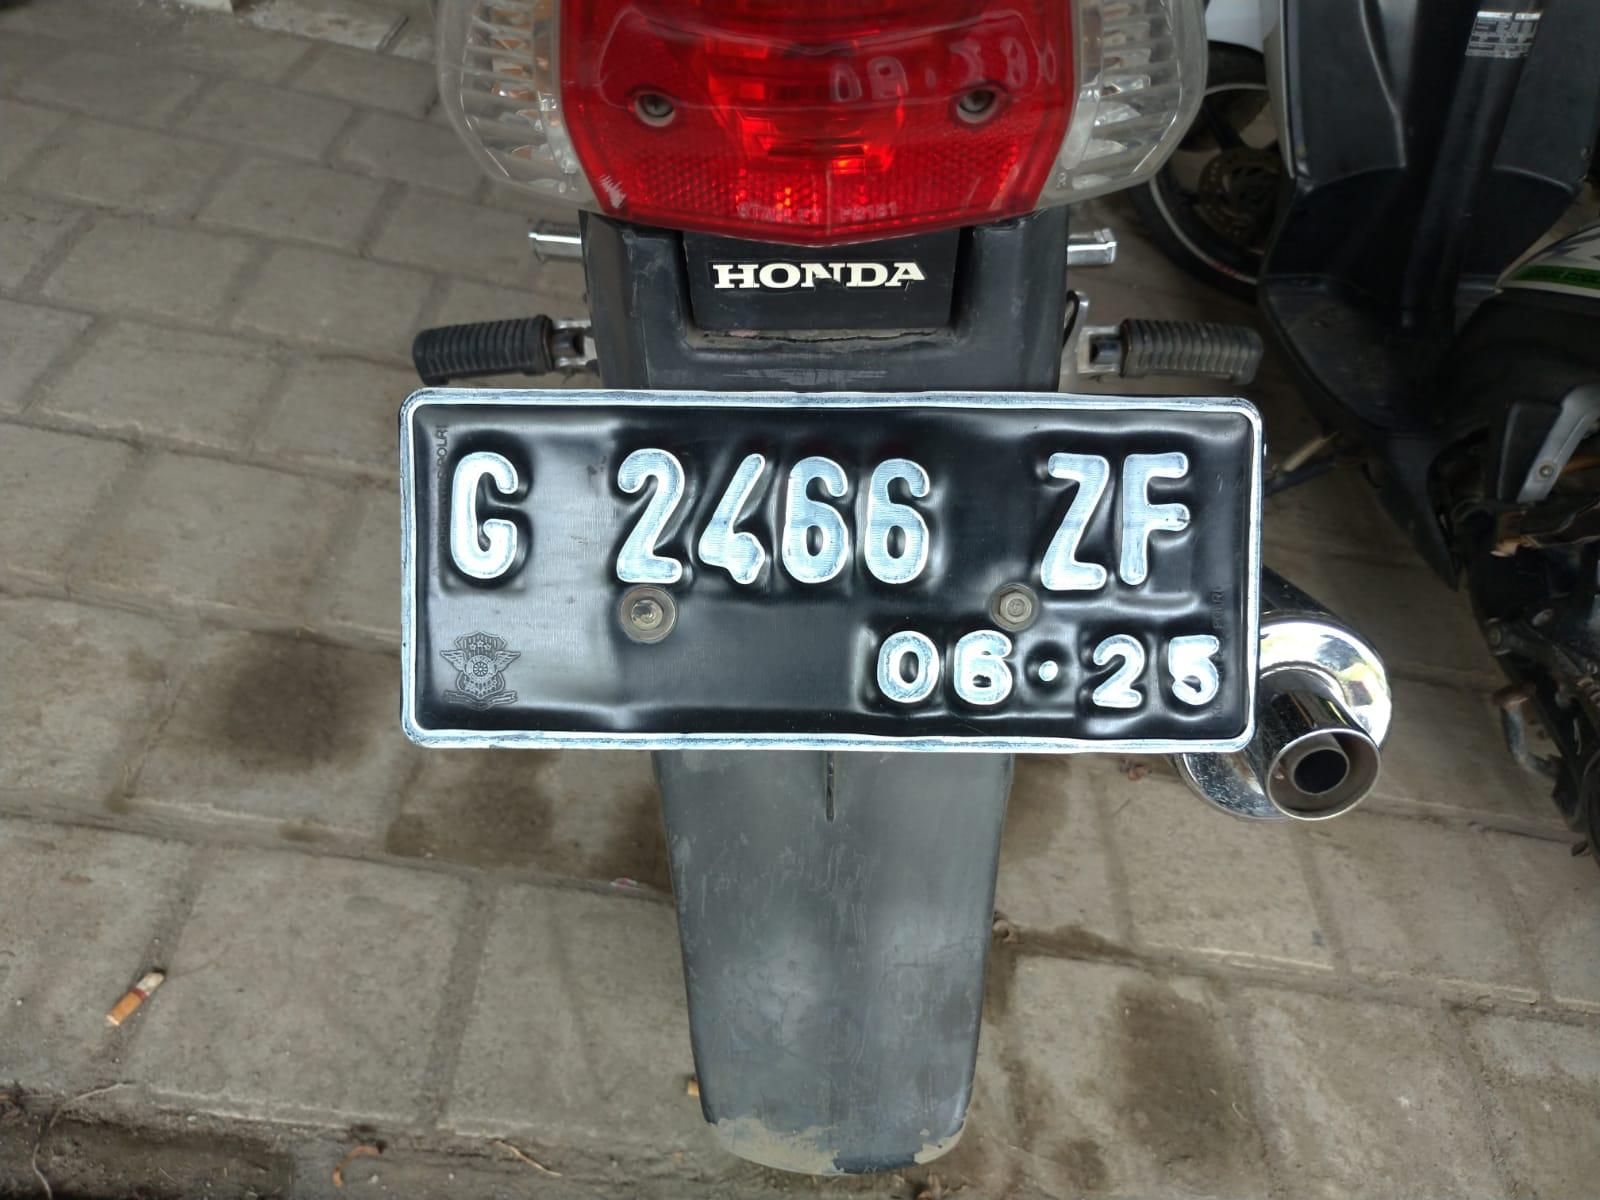plat: (401, 387, 1260, 753)
